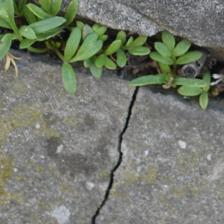Crack: (45, 44, 95, 177)
